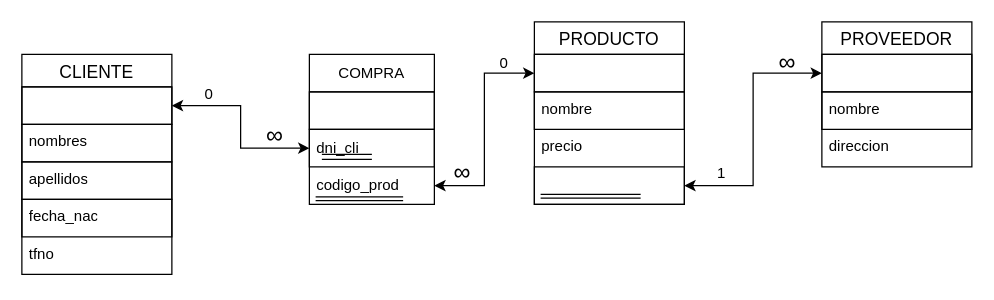
Some shapes in this 994 by 300 pixel diagram are drawn without their labels. The shapes that lost their labels are listed below. From the top down, each one's centre as x and y in pixels, then its label:
At pixel 608 72: "codigo".
At pixel 896 72: "ruc".
At pixel 96 105: "dni".
At pixel 371 110: "id_compra".
At pixel 608 185: "ruc_proveedor".
